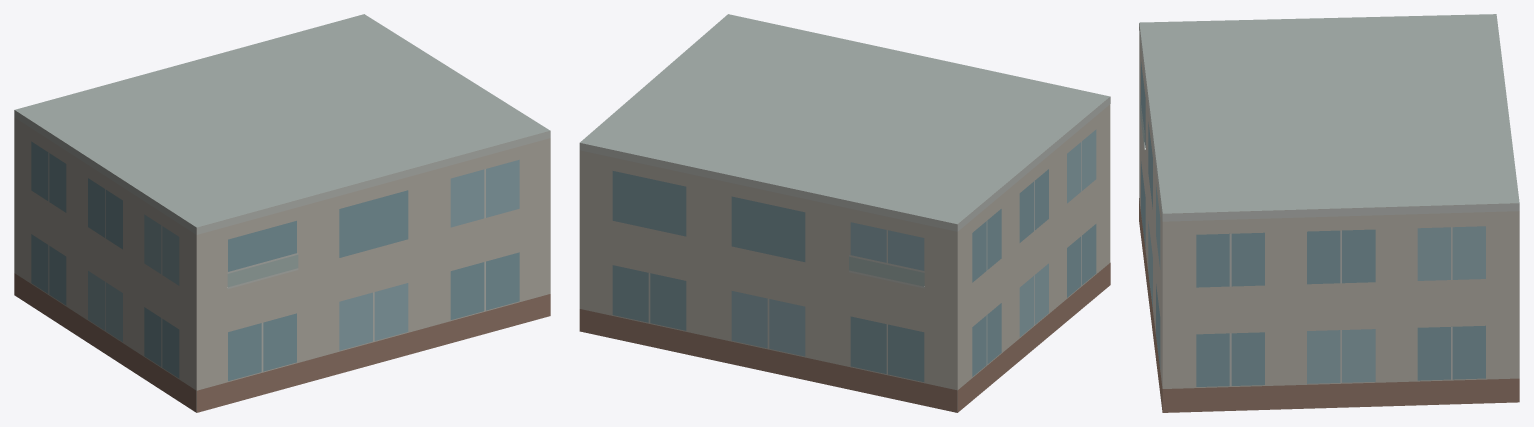
File: survey-upis-32702918.glb
3 renders of one model, left to right at view 1: azimuth 30°, elevation 25°; view 2: azimuth 150°, elevation 25°; view 3: azimuth 270°, elevation 25°, orthographic. The views are drawn at different scales.
Parts seen in each view (by area): view 1: survey-upis-32702918.tmp; view 2: survey-upis-32702918.tmp; view 3: survey-upis-32702918.tmp.
Boxes of the visible parts, bbox=[...] form: survey-upis-32702918.tmp: bbox=[14, 14, 550, 412]; survey-upis-32702918.tmp: bbox=[579, 14, 1110, 412]; survey-upis-32702918.tmp: bbox=[1139, 14, 1519, 412].
Bounding box in the file's own units: 13.13 × 6.1 × 10.57.
